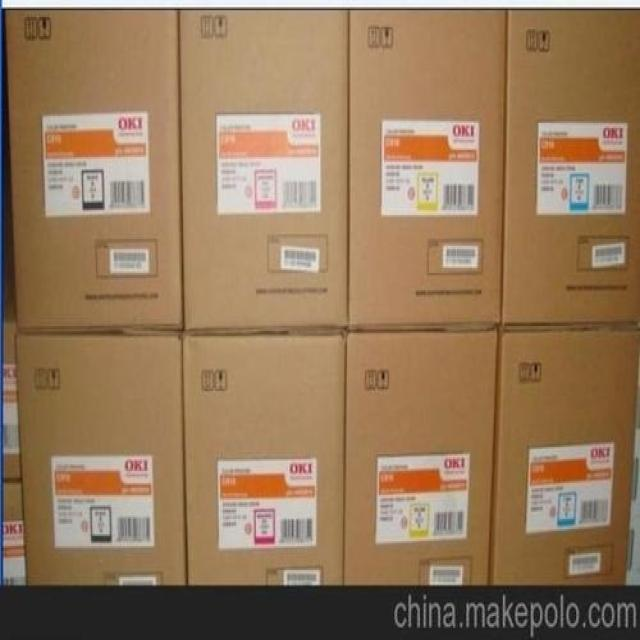box: (5, 10, 184, 329), (178, 9, 348, 331), (347, 9, 508, 331), (500, 10, 639, 329), (18, 329, 186, 585), (184, 329, 347, 585), (343, 329, 500, 585), (490, 329, 639, 585), (3, 323, 23, 481), (1, 481, 27, 585)
